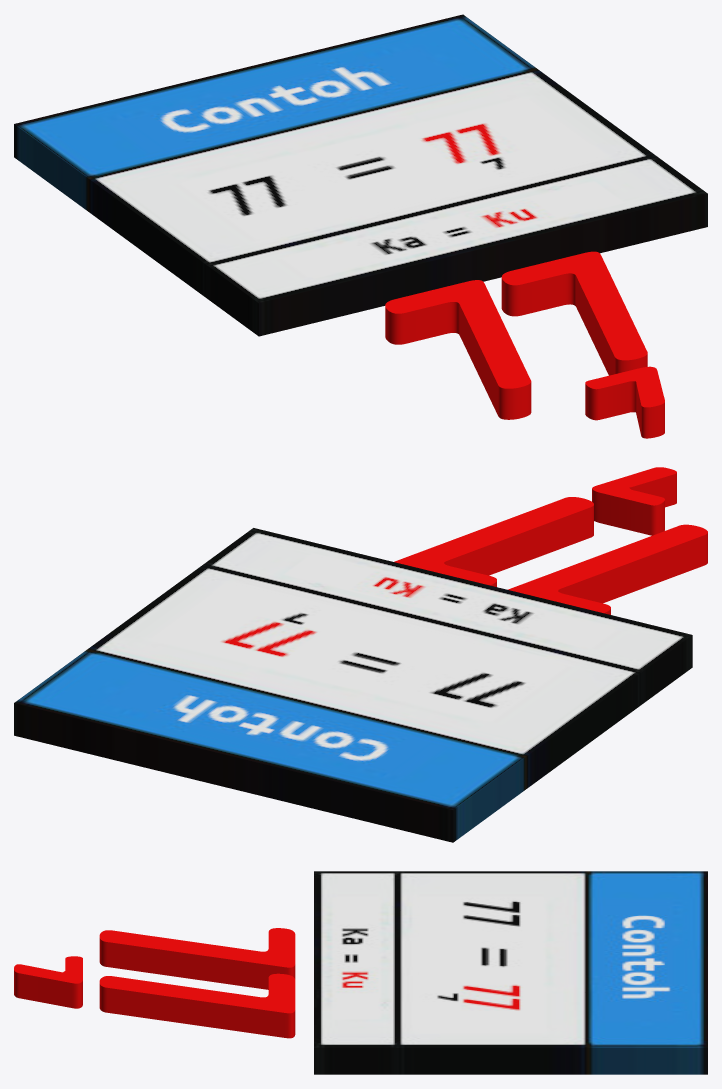
3 views of the same model, one above another, from view 1: azimuth 30°, elevation 25°; view 2: azimuth 150°, elevation 25°; view 3: azimuth 270°, elevation 25° (orthographic). The views are drawn at different scales.
Parts seen in each view (by area): view 1: contoh-u-Rarangken, Text; view 2: contoh-u-Rarangken, Text; view 3: contoh-u-Rarangken, Text.
Part boxes in pixels (<box>): contoh-u-Rarangken: <box>14,14,707,336</box>; Text: <box>385,251,664,438</box>; contoh-u-Rarangken: <box>14,528,692,842</box>; Text: <box>394,467,707,614</box>; contoh-u-Rarangken: <box>314,871,707,1074</box>; Text: <box>14,928,295,1038</box>.
Size of the model in its own units: 1.06 by 0.11 by 1.76.
Materials: 2 (1 with a texture image).
